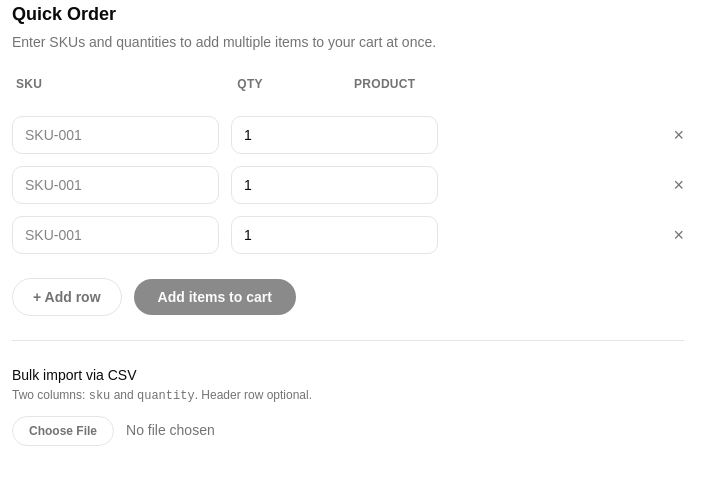
Test: QuickOrderPage › disables "Add to cart" button when not authenticated
Type "TSS-001" into the 1st field with placeholder "SKU-001".
click(116, 135); type("TSS-001")  # box x1=12 y1=116 x2=219 y2=154
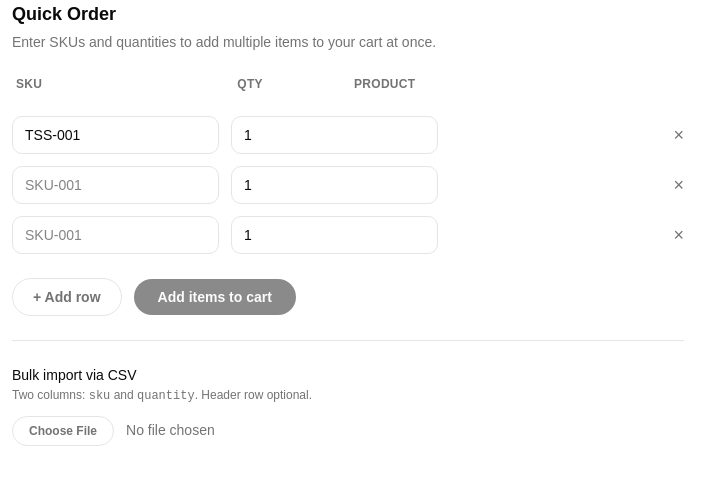
Leave the field with placeholder "SKU-001", box x1=12 y1=116 x2=219 y2=154
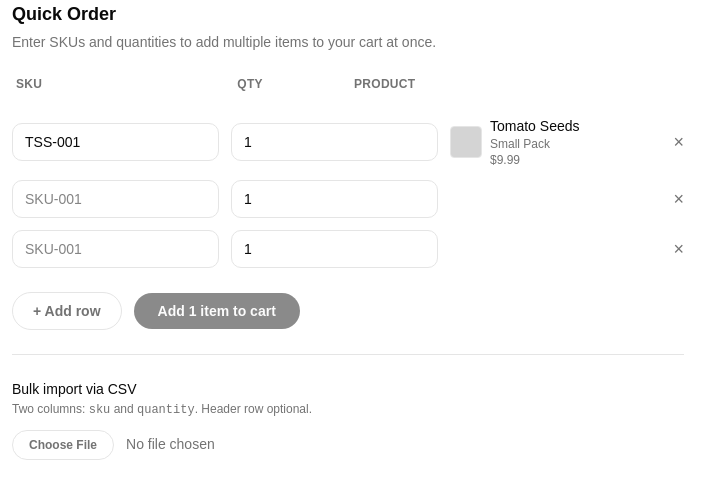
Expected: the button "Add 1 item to cart" is disabled, x1=134 y1=293 x2=300 y2=329
Expected: the text "Tomato Seeds" is shown, x1=490 y1=116 x2=580 y2=136
